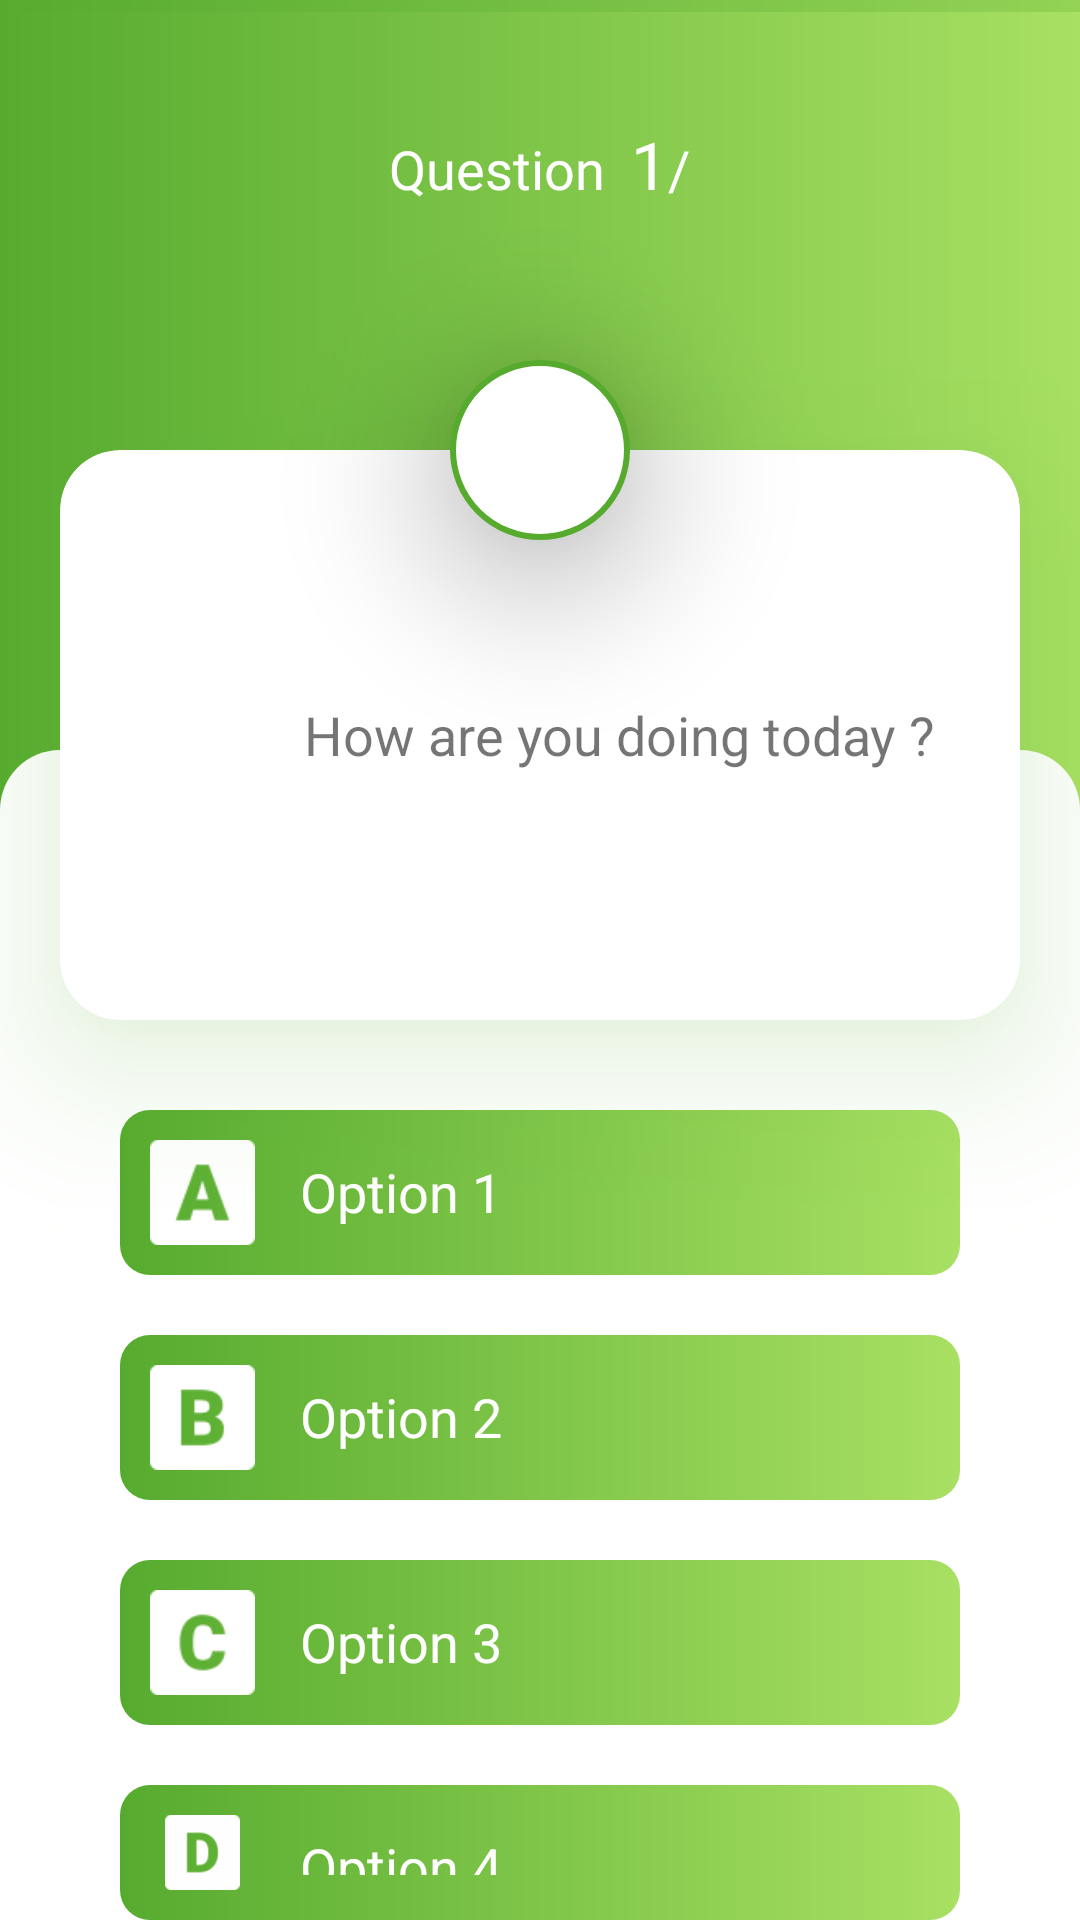

Screen size 1080*1920. Icon name, then its center in pixels as (x,y):
letter: (202,1192), (202,1417), (202,1642), (202,1852)
